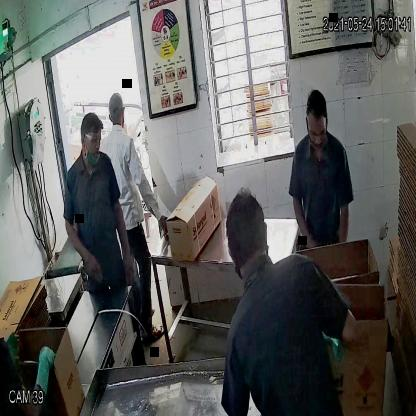goggles: (78, 130, 104, 150)
